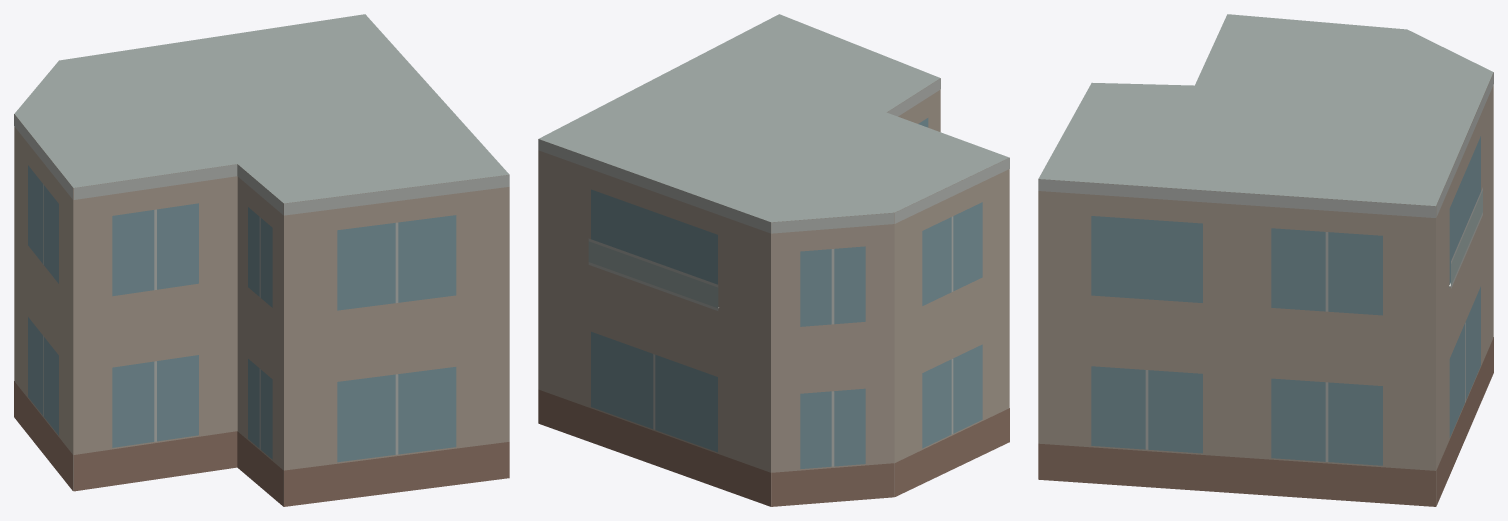
File: survey-upis-32827846.glb
3 renders of one model, left to right at view 1: azimuth 30°, elevation 25°; view 2: azimuth 150°, elevation 25°; view 3: azimuth 270°, elevation 25°, orthographic. The views are drawn at different scales.
Visible parts, largest first — view 1: survey-upis-32827846.tmp; view 2: survey-upis-32827846.tmp; view 3: survey-upis-32827846.tmp.
Part boxes in pixels (x1,y1,x2,y2): survey-upis-32827846.tmp: [14, 14, 509, 506]; survey-upis-32827846.tmp: [538, 14, 1009, 506]; survey-upis-32827846.tmp: [1038, 14, 1493, 506].
Size of the model in its own units: 8.37 by 6.1 by 8.38.
